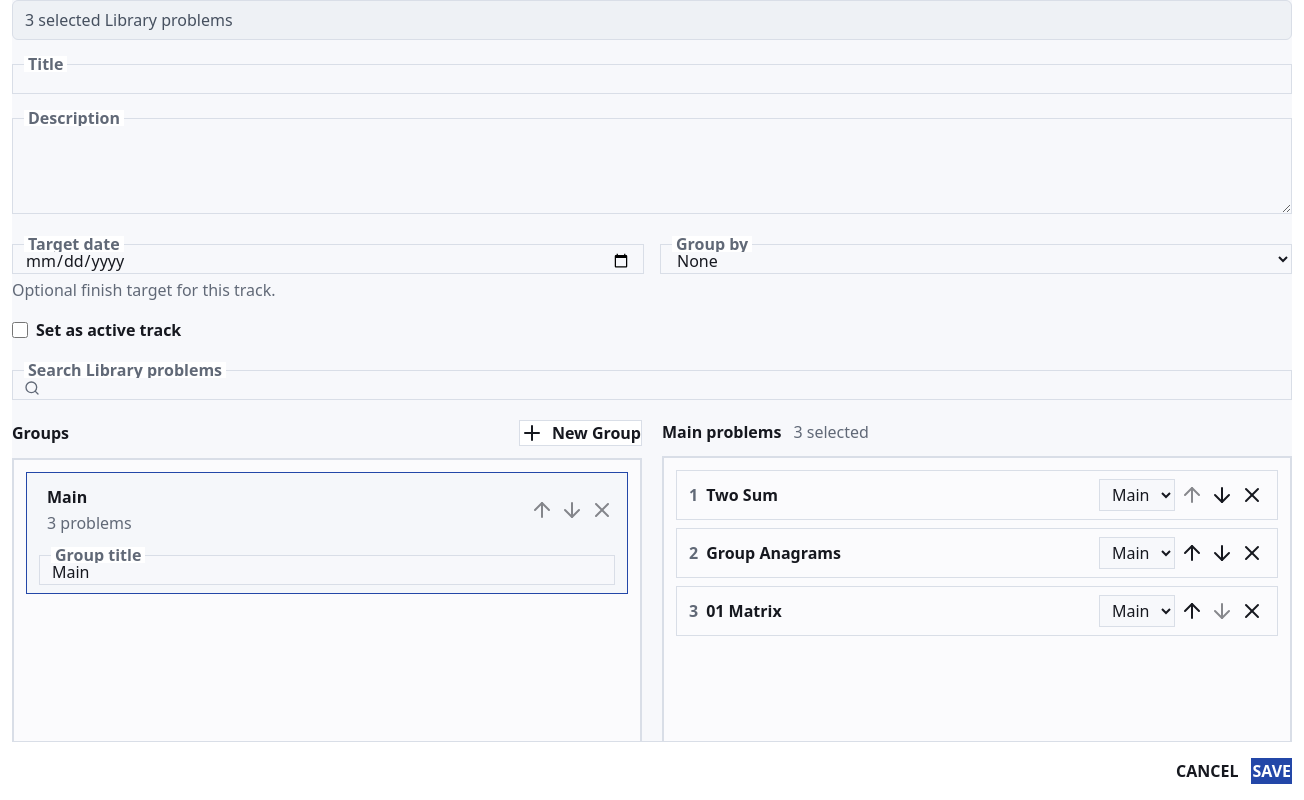
Test case: TrackForm › regroups and moves draft problems with compact group selectors
Select "Topic" in the dropdown labelled "Group by" at [976, 259], box [660,244,1292,274]
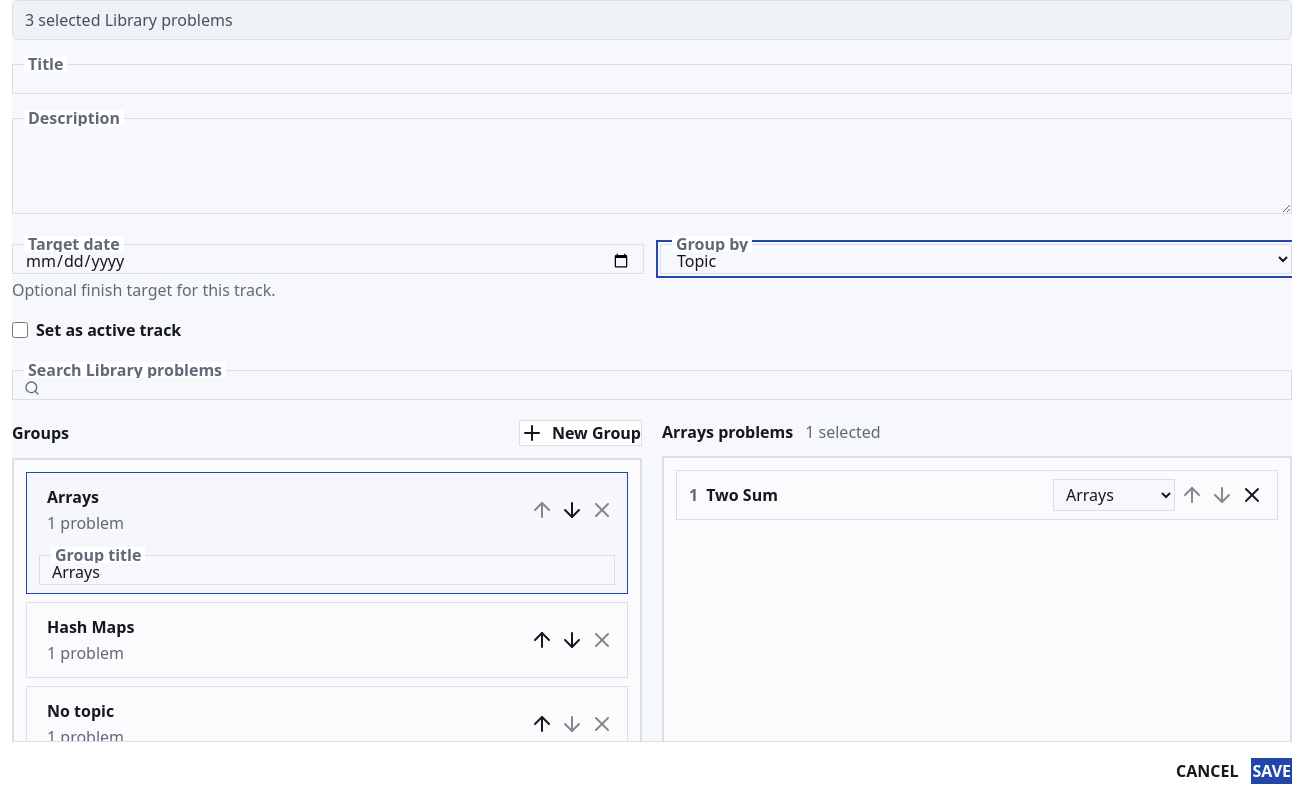
Now the button with aria-label "Select Arrays" is shown, box [39,481,521,539]
Now the button with aria-label "Select Hash Maps" is shown, box [39,611,521,669]
Now the button with aria-label "Select No topic" is shown, box [39,695,521,753]
Select "Hash Maps" in the dropdown named "Group for Two Sum" at [1114, 495], box [1053,479,1175,511]
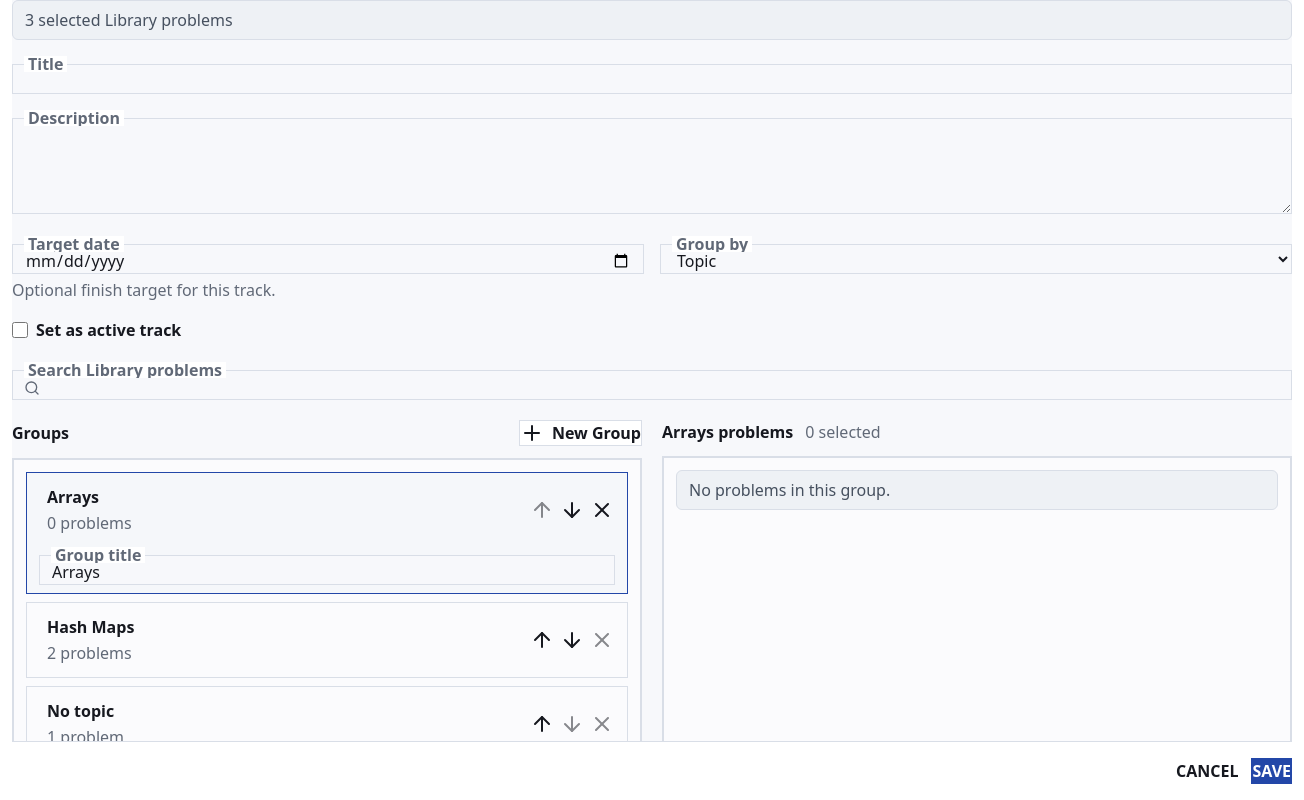
Click the button with aria-label "Select Hash Maps".
click(91, 627)  # box [39,611,521,669]
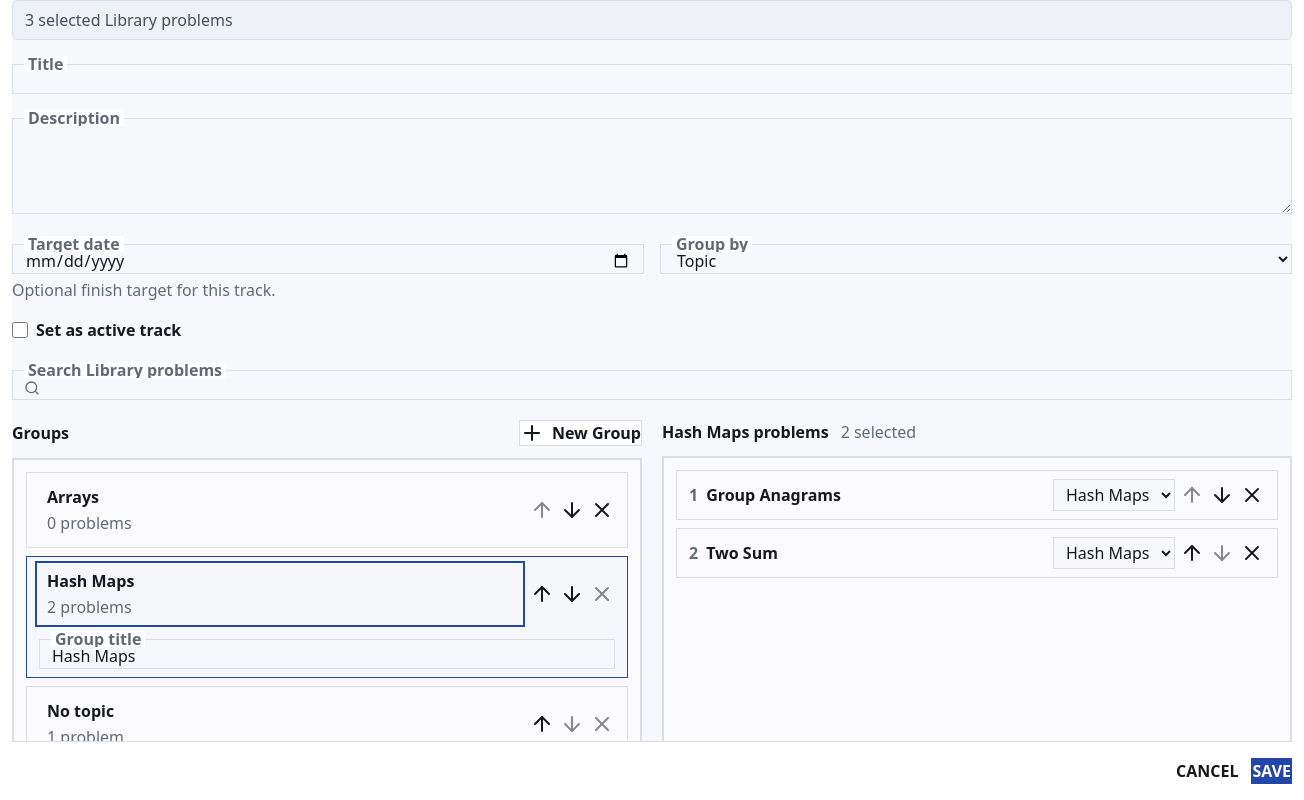
Now the list item with aria-label "2. Two Sum" is shown, box [676,528,1278,578]
Select "Company" in the dropdown labelled "Group by" at [976, 259], box [660,244,1292,274]
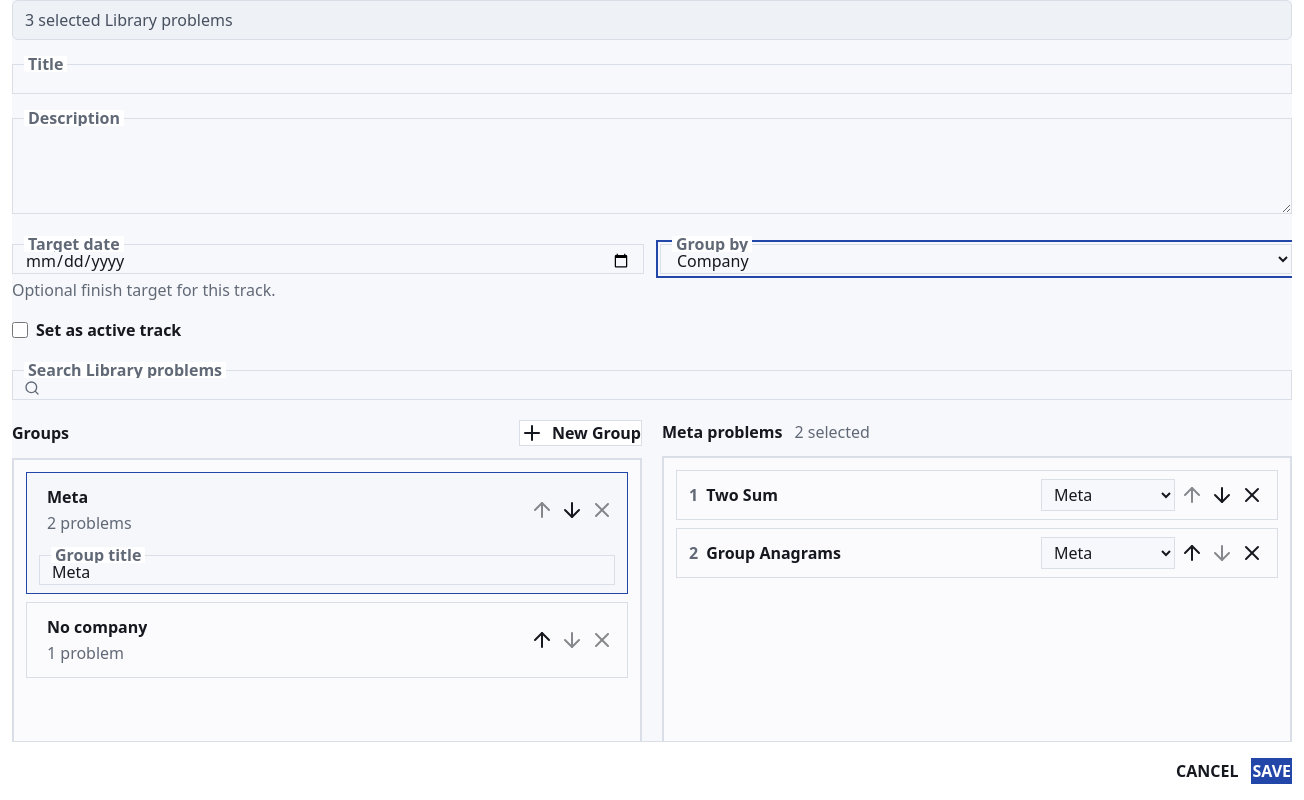
Now the button with aria-label "Select Meta" is shown, box [39,481,521,539]
Now the button with aria-label "Select No company" is shown, box [39,611,521,669]
